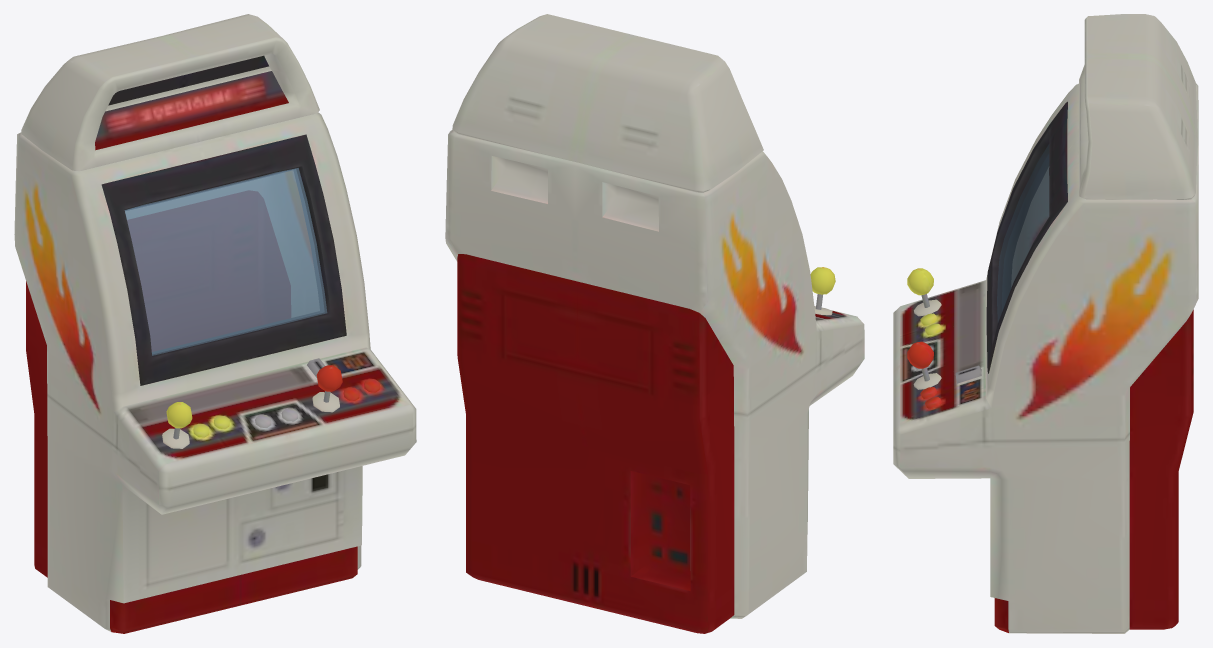
3 renders of one model, left to right at view 1: azimuth 30°, elevation 25°; view 2: azimuth 150°, elevation 25°; view 3: azimuth 270°, elevation 25°, orthographic. The views are drawn at different scales.
Size of the model in its own units: 9.43 by 18.05 by 9.65.
Materials: 2 (1 with a texture image).
